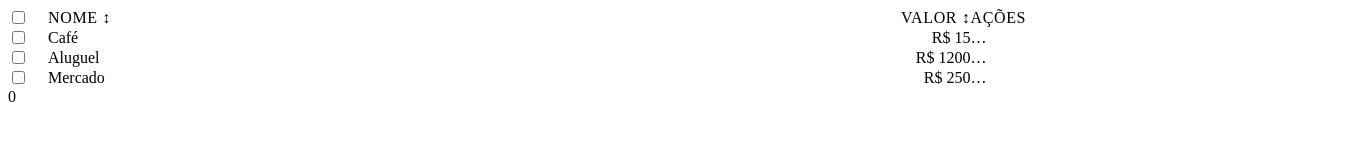
Scenario: ds: Table › seleção: marcar linha, selecionar todas e desmarcar
The image size is (1366, 160).
What coordinates should you click on to do the following:
click the checkbox named "Selecionar Café"
I would click on:
 (18, 38)
Its box is [12,31,25,44].
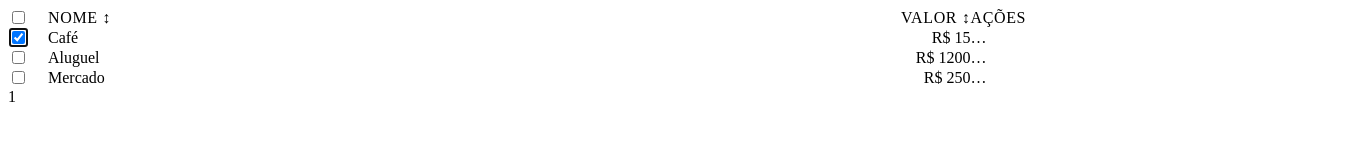
Expected: the text with test id "n" reads "1", [8,88,16,105]
What coordinates should you click on to do the following:
click the checkbox named "Selecionar todas as linhas"
I would click on:
 (18, 18)
Its box is [12,11,25,24].
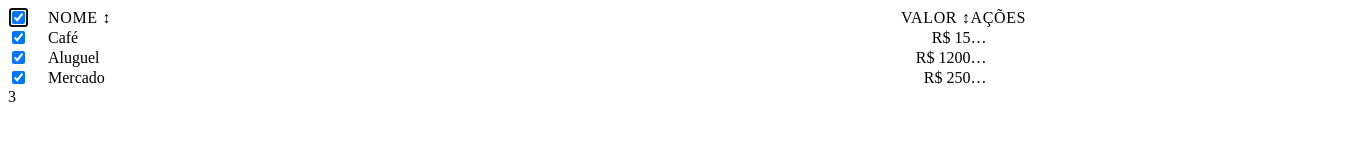
Expected: the text with test id "n" reads "3", [8,88,16,105]
What coordinates should you click on to do the following:
click the checkbox named "Selecionar todas as linhas"
I would click on:
 (18, 18)
Its box is [12,11,25,24].
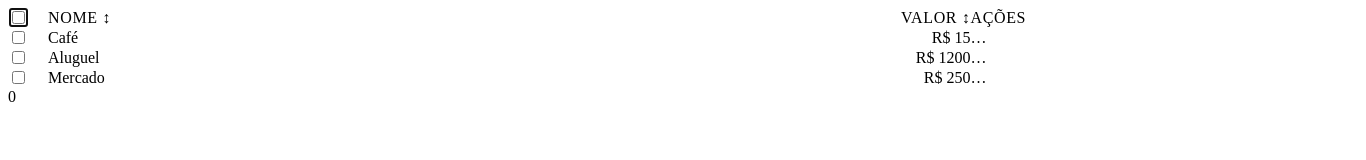
Expected: the text with test id "n" reads "0", [8,88,16,105]
